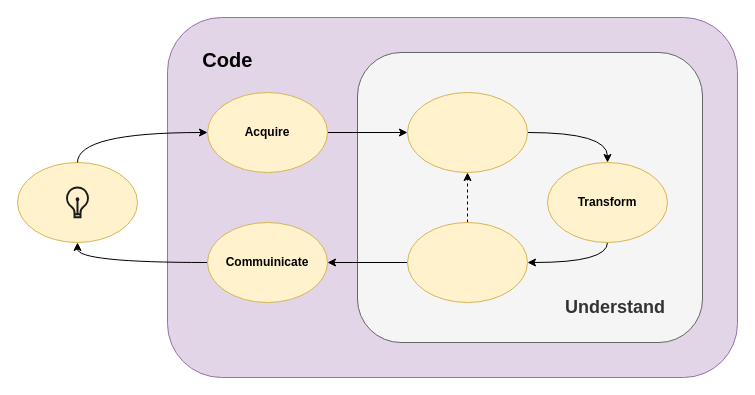
Some shapes in this 755 by 395 pixel diagram are drawn without their labels. Each missing label, with the centre of its shape:
"Explore" belongs at pixel 467 132.
"Model" belongs at pixel 467 262.
